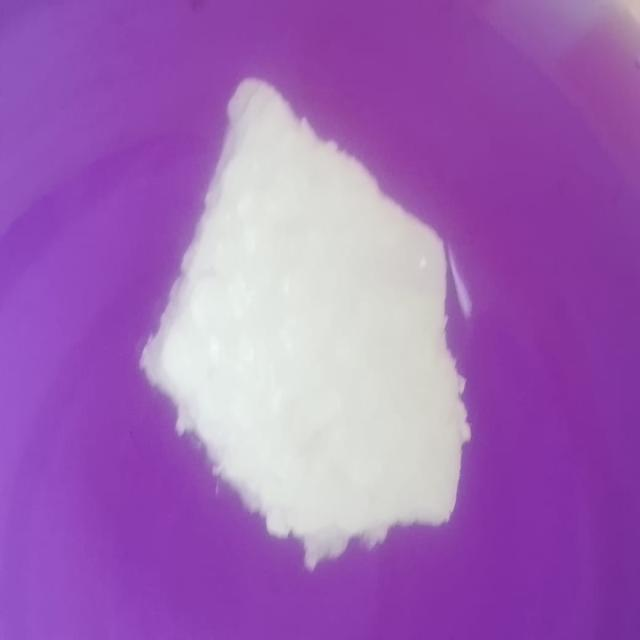litter: (127, 62, 483, 572)
